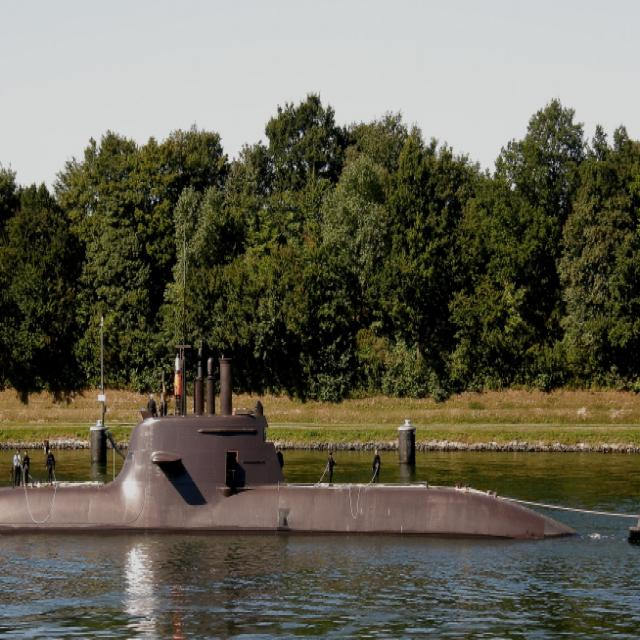submarine: (1, 381, 640, 550)
